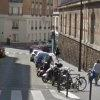Motorcycle: (35, 62, 75, 91)
